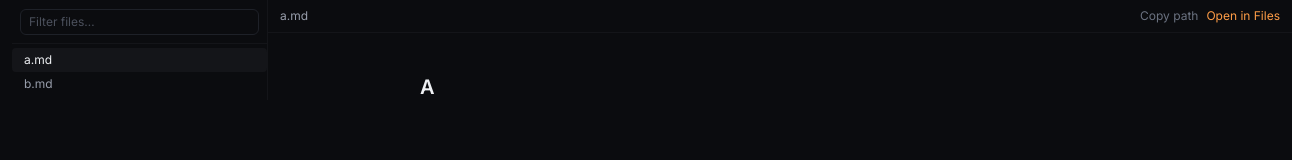
Test case: KnowledgeBasePanel › renders the correct content when revisiting a previously-viewed file (I4)
Check: the heading "A" is shown, box [420, 75, 435, 99]
Click the button "b.md": (140, 84) [12, 72, 267, 96]
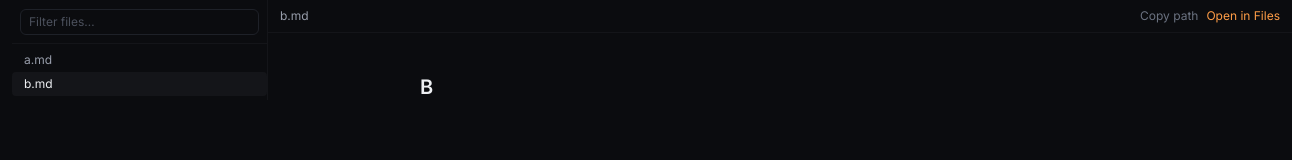
Check: the heading "B" is shown, box [420, 75, 433, 99]
Click the button "a.md": (140, 60) [12, 48, 267, 72]
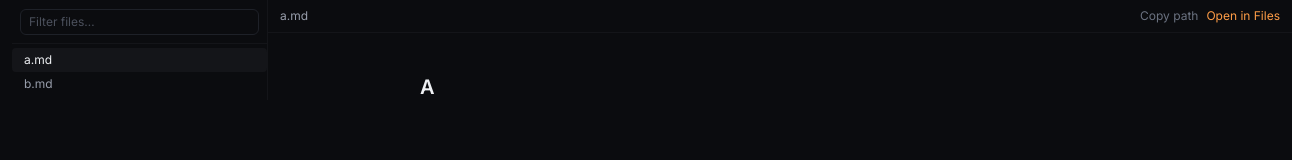
Check: the heading "A" is shown, box [420, 75, 435, 99]
